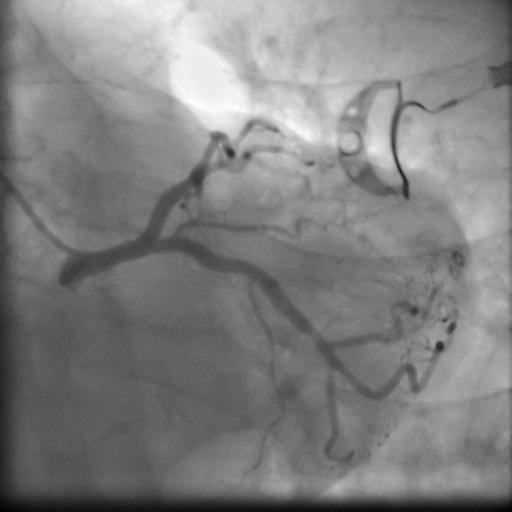Stenosis: (309, 321, 322, 345)
